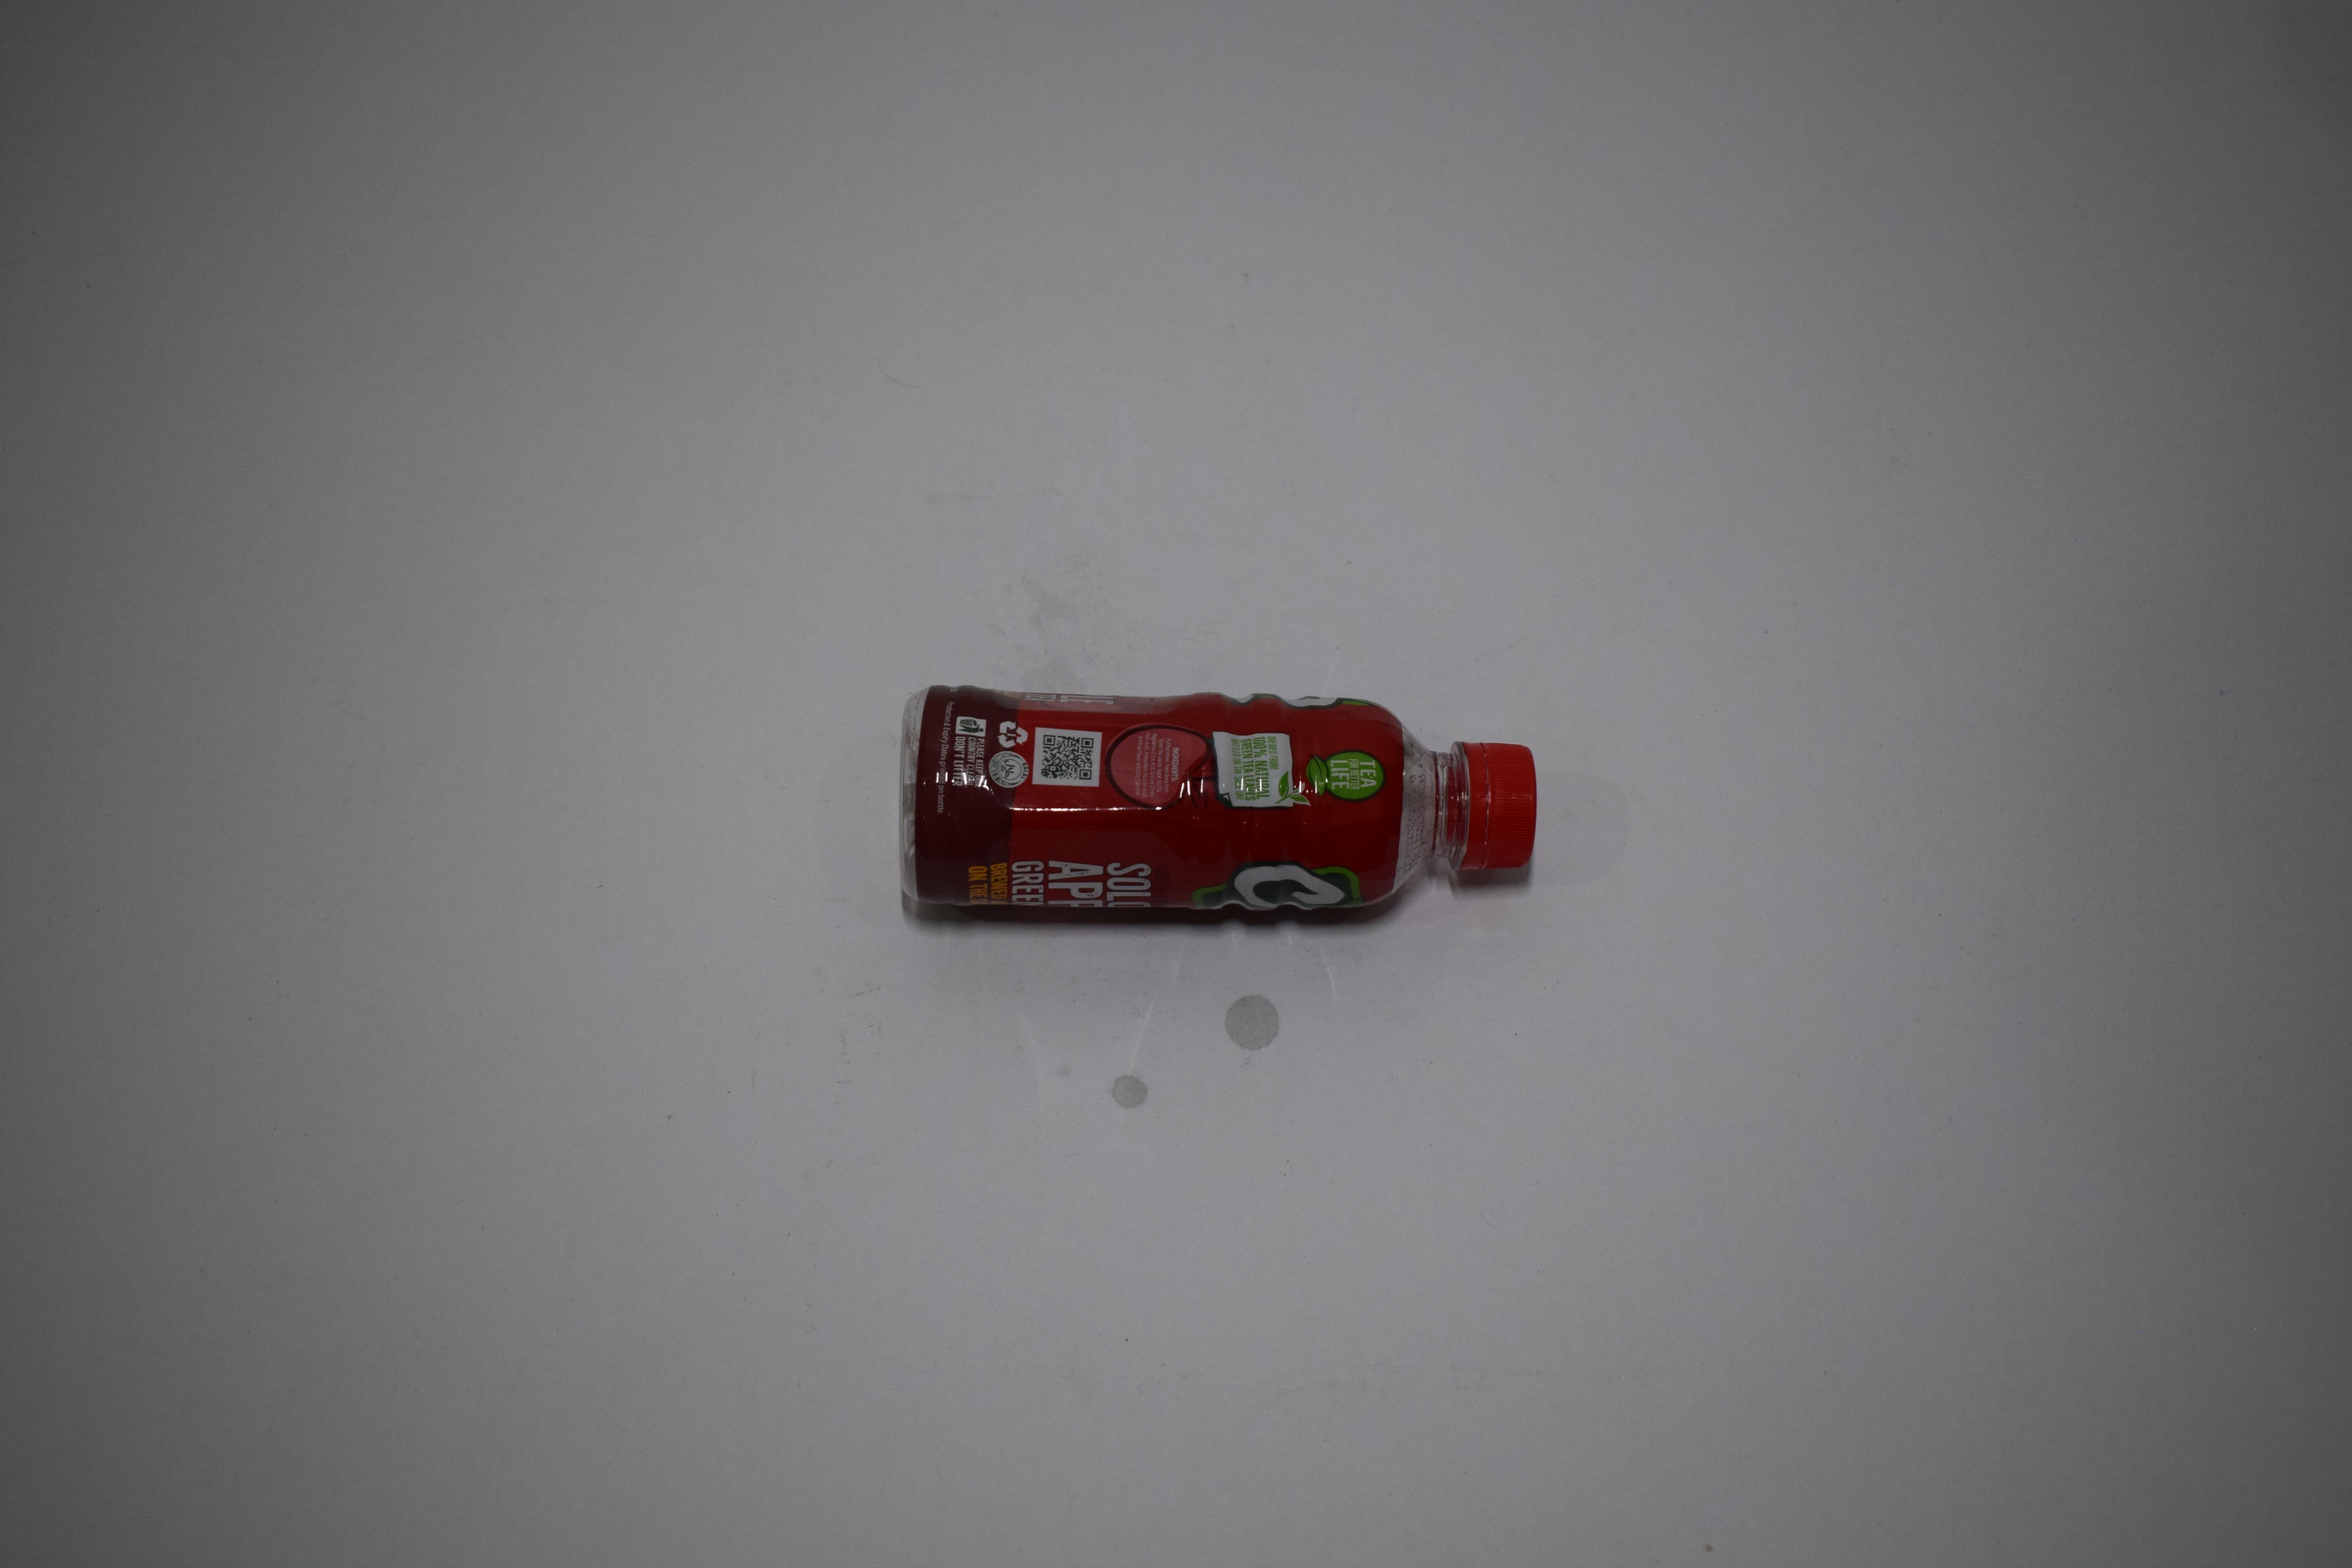bottle: (0, 0, 367, 149)
